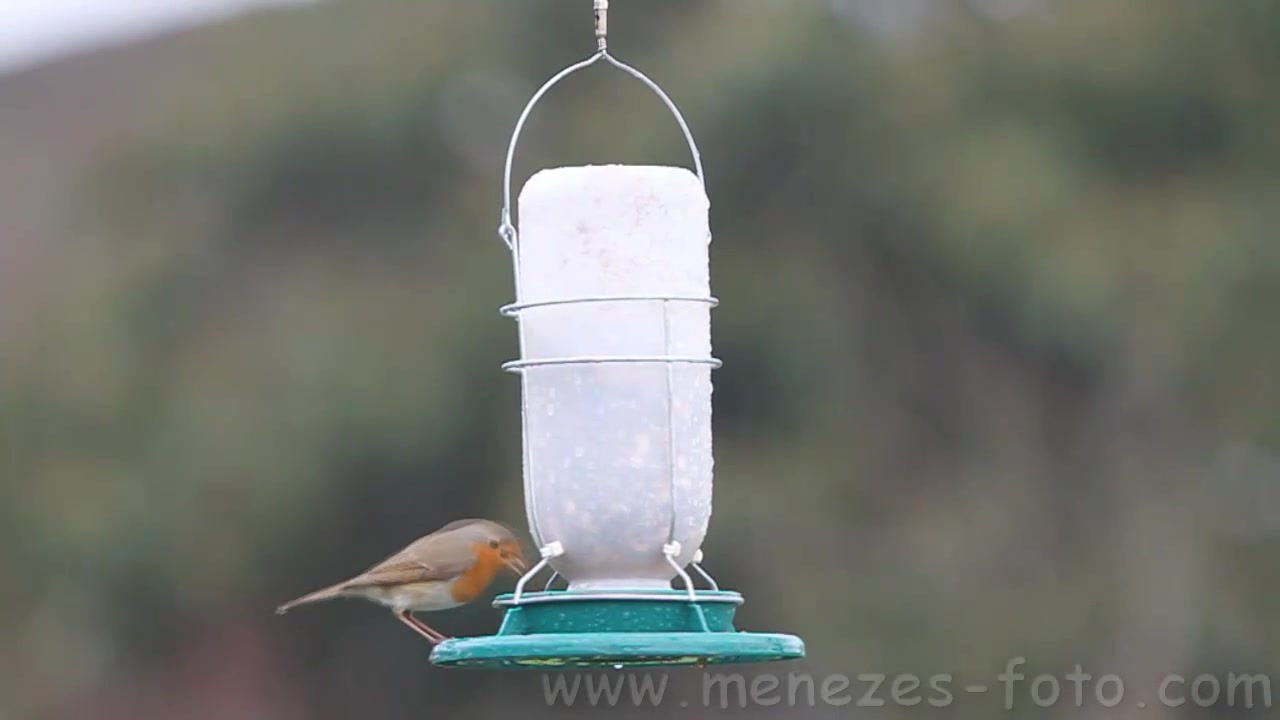bird: (278, 519, 528, 660)
